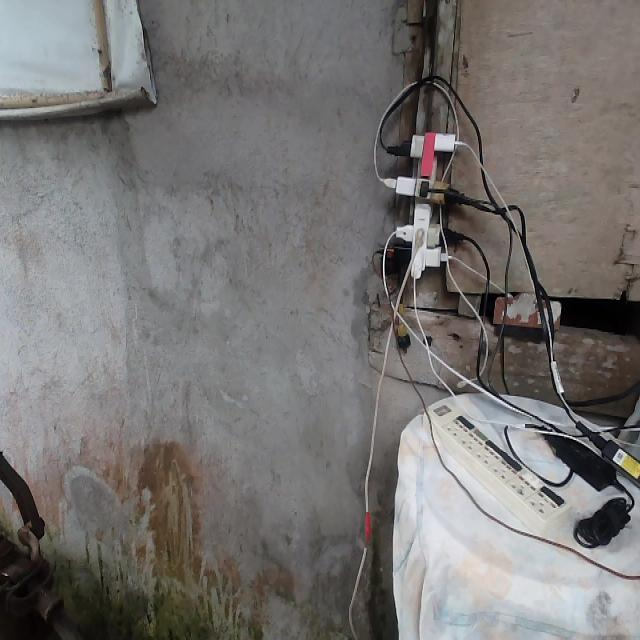-: (379, 128, 473, 284)
